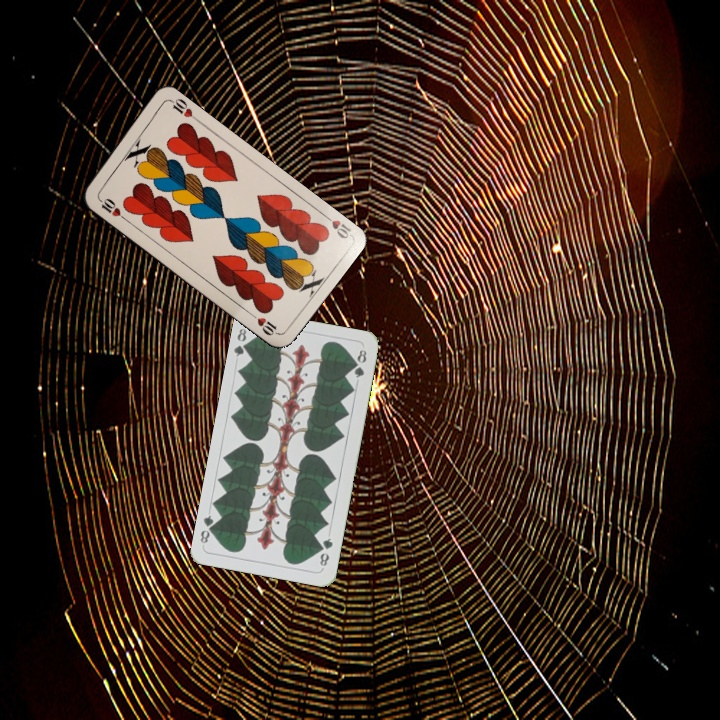G8: (230, 324, 253, 359), (316, 534, 335, 571)
H10: (318, 209, 355, 241), (94, 194, 129, 223)
